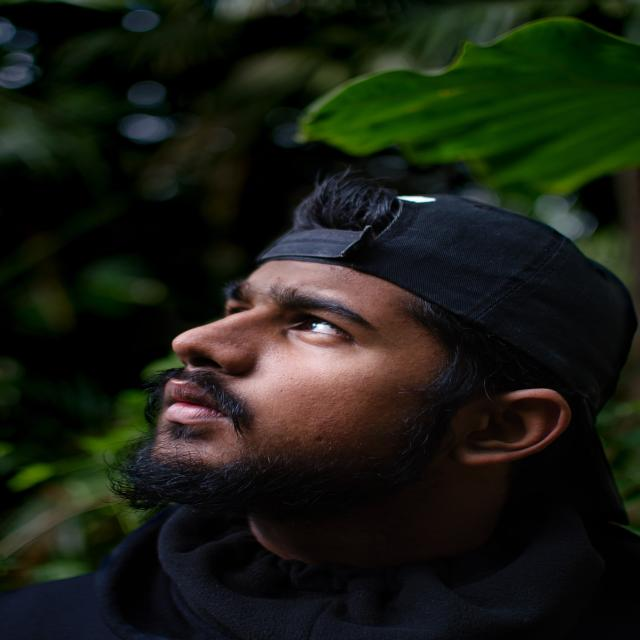adult: (8, 162, 640, 640)
